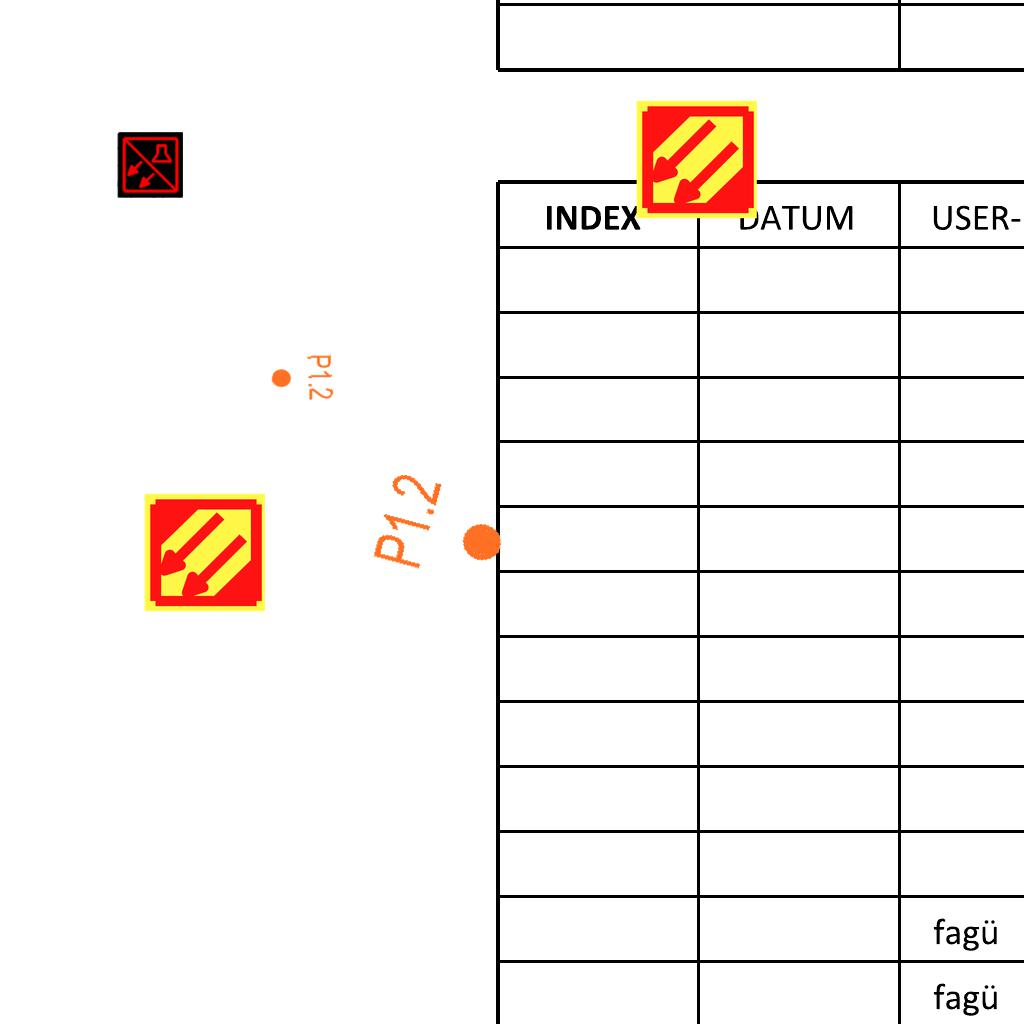ASR_Ansaugrauchmelder: (142, 490, 267, 615), (634, 97, 759, 222)
Downlight_LED_Einbauleuchten_Flur: (368, 468, 517, 592), (268, 353, 336, 403)
OKW_Multisensormelder_(Kombination_optischer_Rauch-Kahlenmonoxid_Waerme-Melder): (117, 132, 183, 198)
